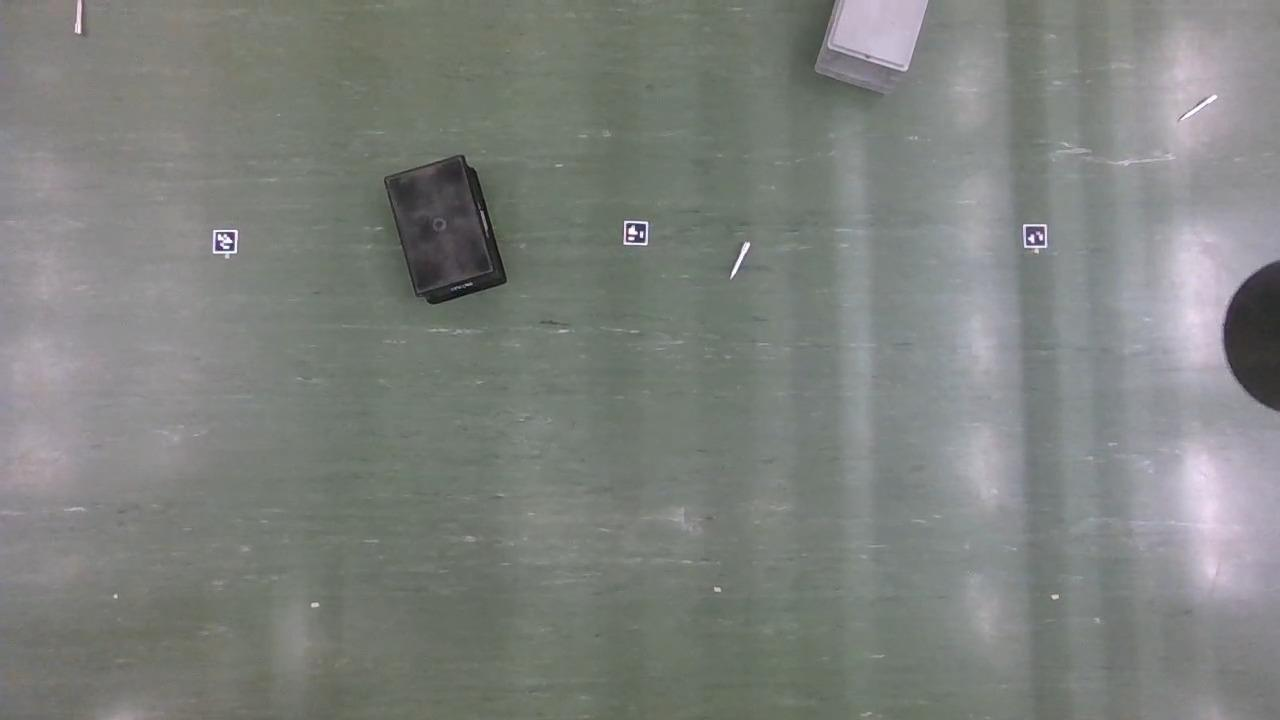probes: (1182, 95, 1215, 124), (730, 244, 748, 281), (74, 1, 84, 35)
rako: (384, 158, 507, 307), (812, 1, 929, 97)
